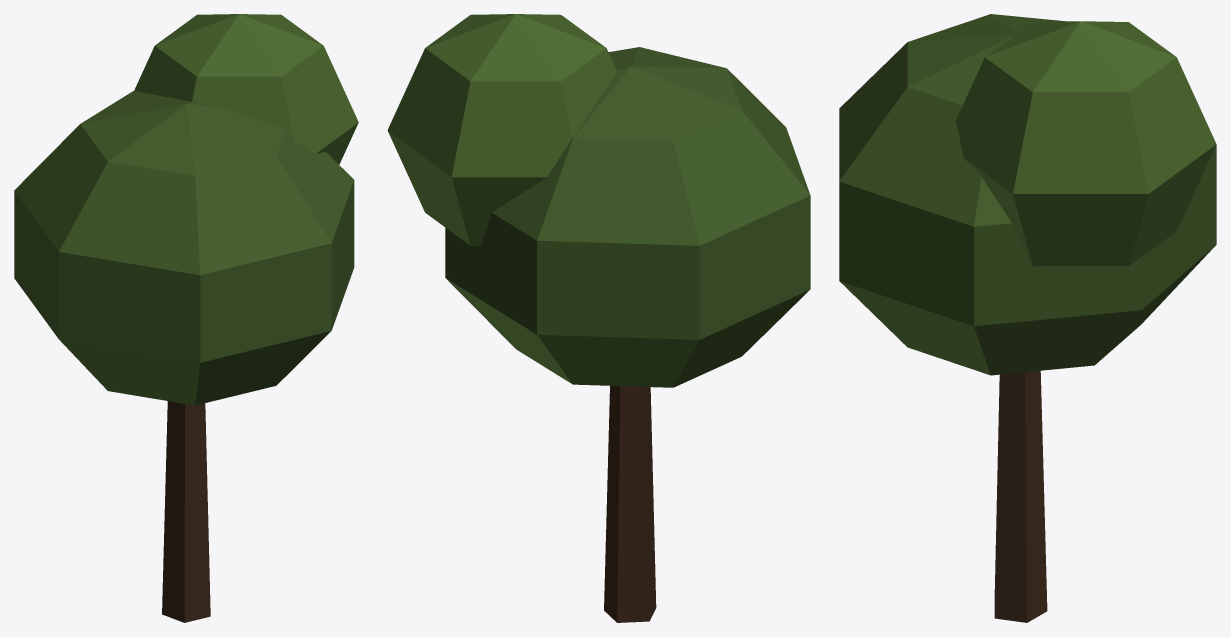
Rendered from tree_broadleaf.glb.
3 views of the same model, side by side, from view 1: azimuth 30°, elevation 25°; view 2: azimuth 150°, elevation 25°; view 3: azimuth 270°, elevation 25° (orthographic). The views are drawn at different scales.
Parts seen in each view (by area): view 1: tree_broadleaf; view 2: tree_broadleaf; view 3: tree_broadleaf.
Boxes of the visible parts, x1=… form: tree_broadleaf: x1=14, y1=14, x2=358, y2=622; tree_broadleaf: x1=387, y1=14, x2=810, y2=622; tree_broadleaf: x1=839, y1=14, x2=1216, y2=622.
Size of the model in its own units: 1.99 by 3.35 by 1.81.
